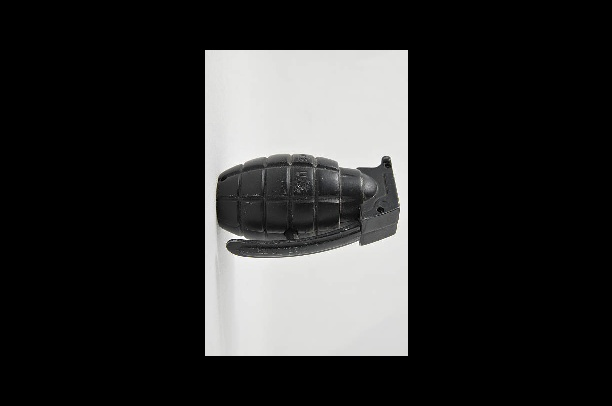e1: (213, 147, 399, 260)
